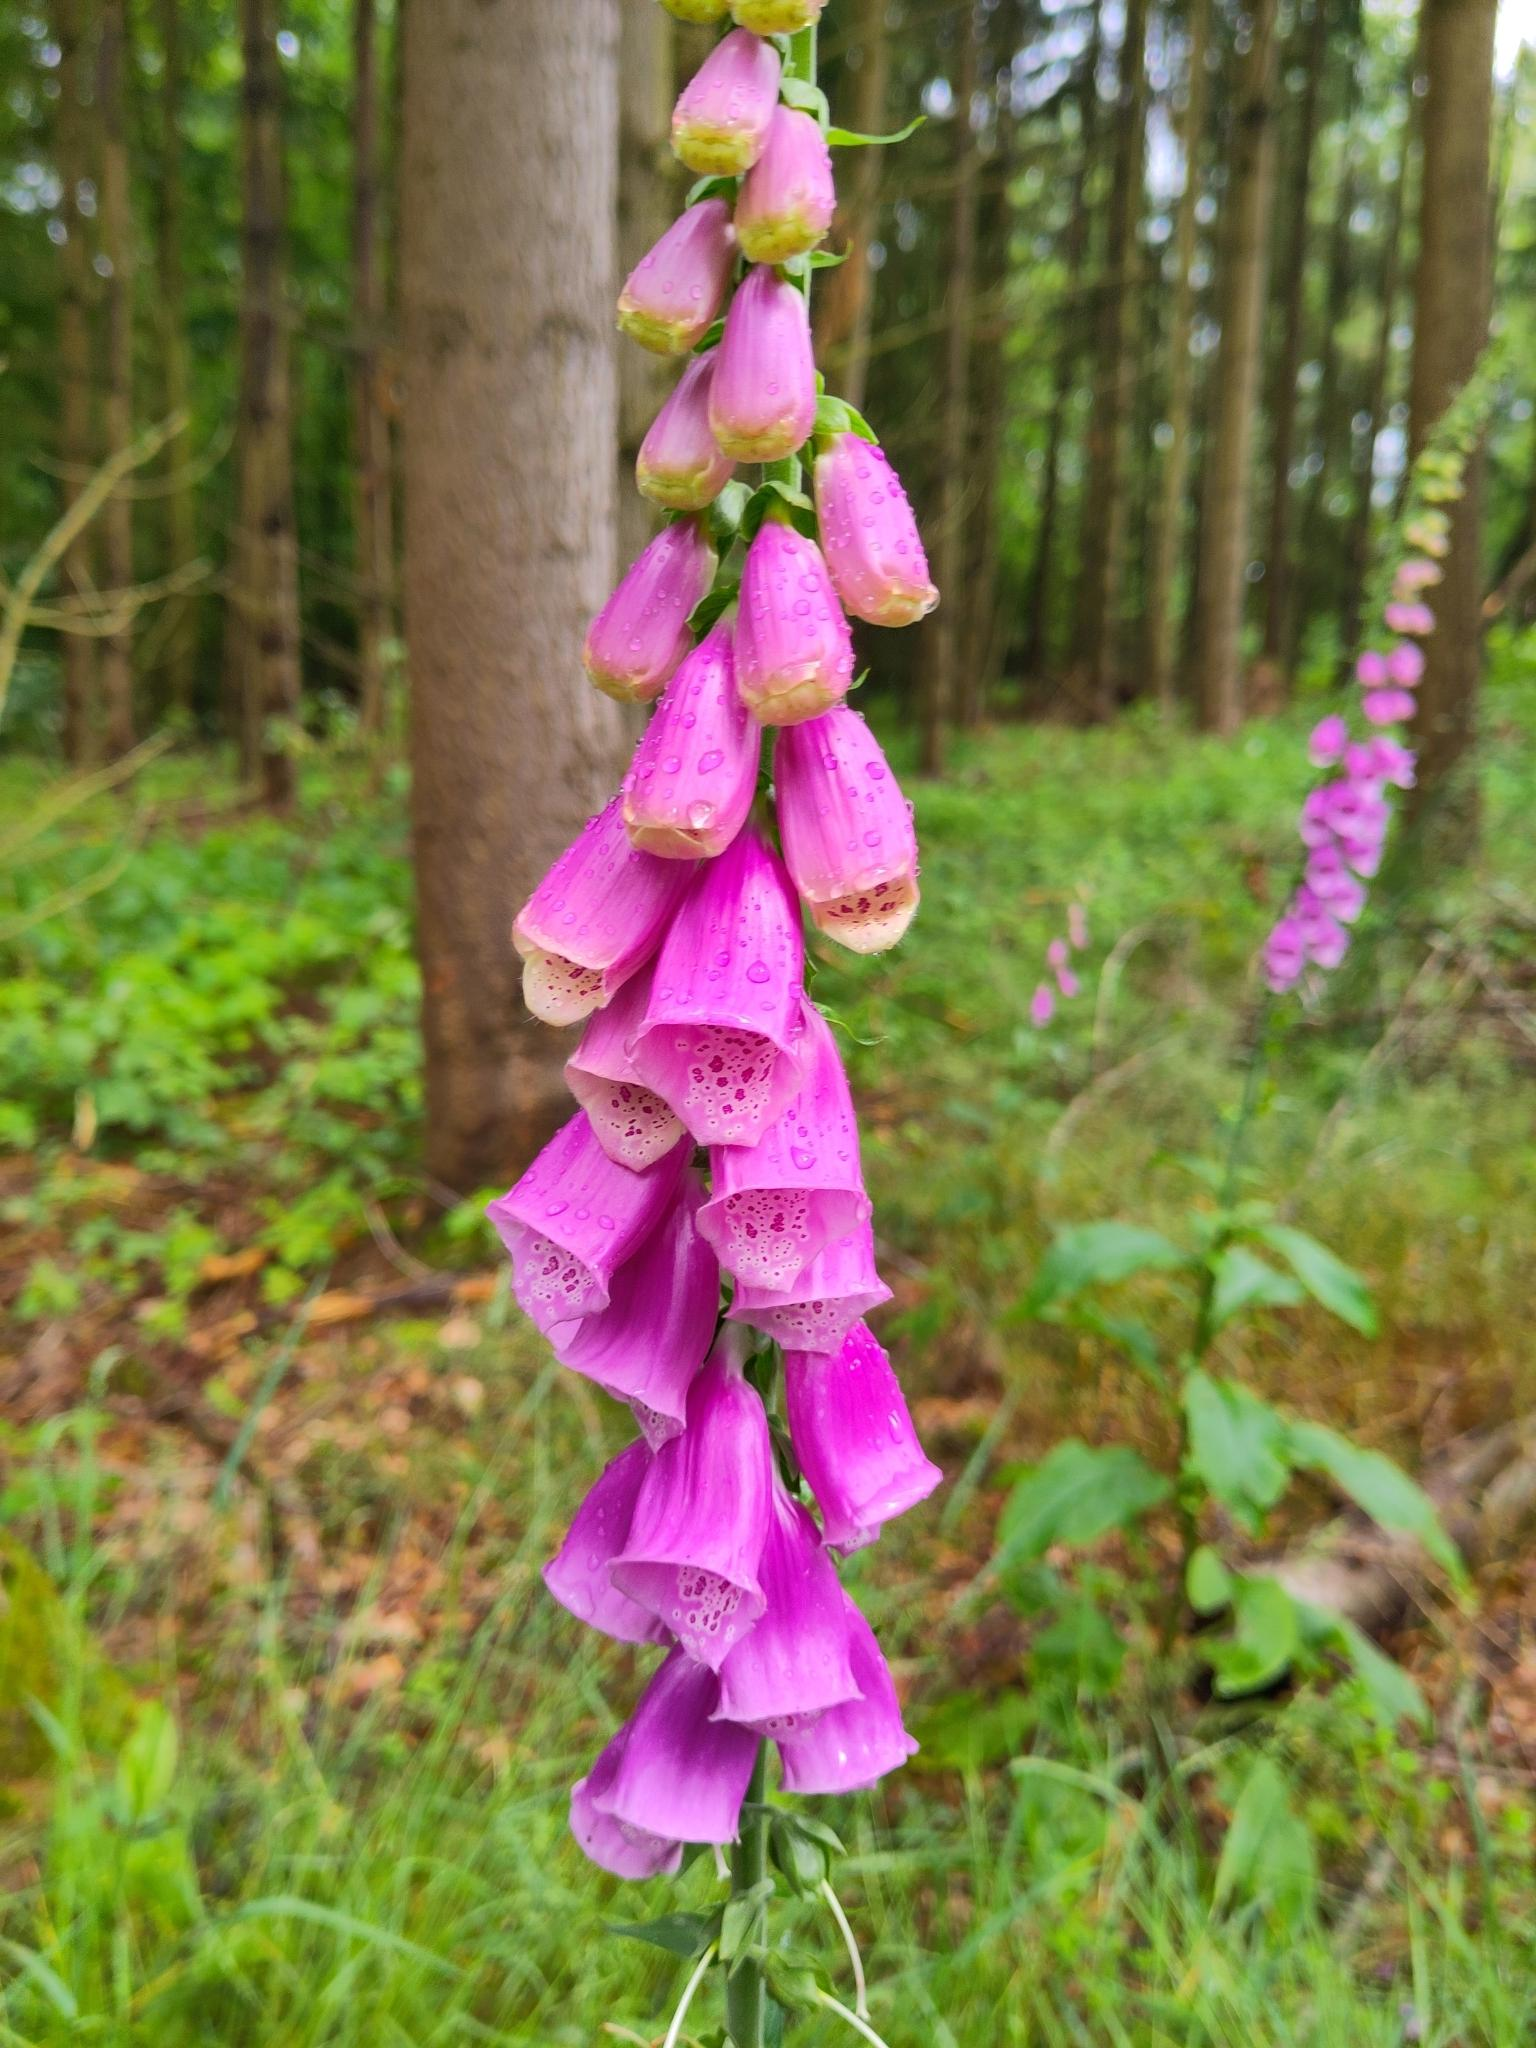Digitalis L: (486, 10, 918, 1942), (1021, 347, 1528, 1790)
